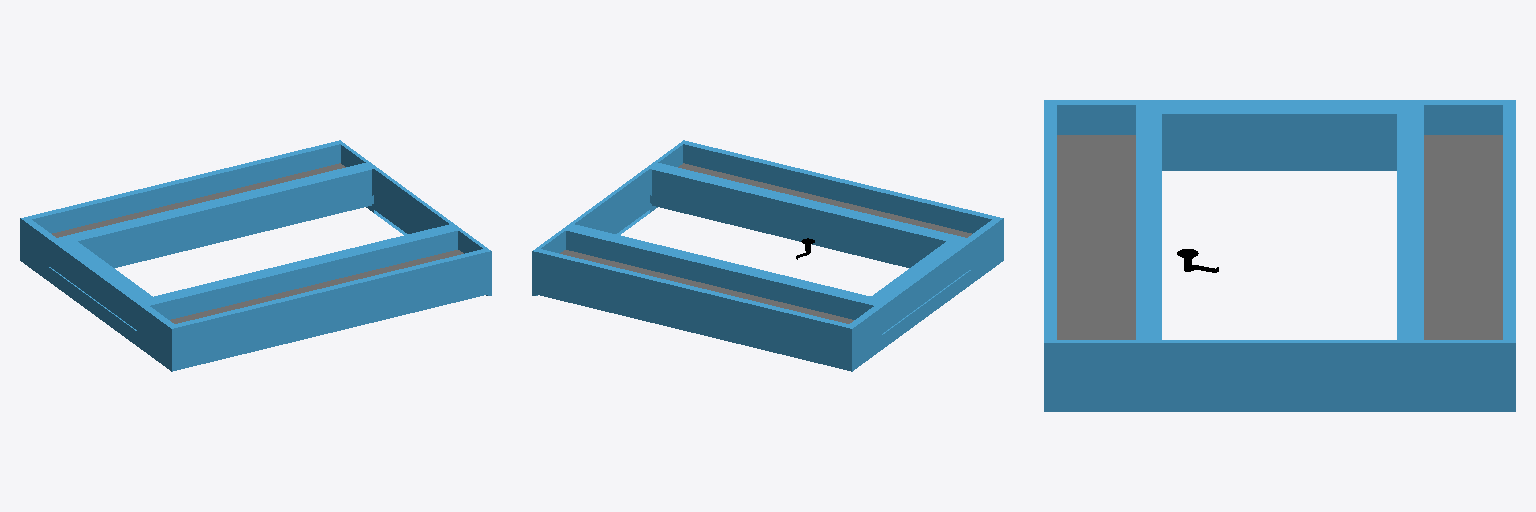
The robot description file, URDF, robot "right-pull-door":
<?xml version="1.0" ?>
<robot name="right-pull-door">
	<link name="base"/>
	<link name="link_0">
		<visual name="out-frame">
			<origin xyz="0 0 0"/>
			<geometry>
				<mesh filename="texture_dae/frame.dae" scale="0.78487892076762 0.78487892076762 0.78487892076762"/>
			</geometry>
		</visual>
		<collision>
			<origin xyz="0 0 0"/>
			<geometry>
				<mesh filename="texture_dae/frame.dae" scale="0.78487892076762 0.78487892076762 0.78487892076762"/>
			</geometry>
		</collision>
	</link>
	<joint name="joint_0" type="fixed">
		<origin rpy="1.570796326794897 0 -1.570796326794897" xyz="0 0 0"/>
		<child link="link_0"/>
		<parent link="base"/>
	</joint>
	<link name="link_1">
		<visual name="surf-board">
			<origin xyz="0.36413636870815214 -0.8003916253740894 0"/>
			<geometry>
				<mesh filename="texture_dae/board.dae" scale="0.78487892076762 0.78487892076762 0.78487892076762"/>
			</geometry>
		</visual>
		<collision>
			<origin xyz="0.36413636870815214 -0.8003916253740894 0"/>
			<geometry>
				<mesh filename="texture_dae/board.dae" scale="0.78487892076762 0.78487892076762 0.78487892076762"/>
			</geometry>
		</collision>
	</link>
	<joint name="joint_1" type="revolute">
		<origin xyz="-0.36413636870815214 0.8003916253740894 0"/>
		<axis xyz="0 -1 0"/>
		<child link="link_1"/>
		<parent link="link_0"/>
		<limit lower="0" upper="1.5079644737231006"/>
	</joint>
	<link name="link_2">
		<visual name="handle">
			<origin xyz="0 0 0"/>
			<geometry>
				<mesh filename="texture_dae/9960011.dae" scale="0.9595700037256313 0.9595700037256313 0.9595700037256313"/>
			</geometry>
		</visual>
		<collision>
			<origin xyz="0 0 0"/>
			<geometry>
				<mesh filename="texture_dae/9960011.dae" scale="0.9595700037256313 0.9595700037256313 0.9595700037256313"/>
			</geometry>
		</collision>
	</link>
	<joint name="joint_2" type="revolute">
		<origin xyz="0.6550969800856979 -0.8683876687534127 0.06941901749717554"/>
		<child link="link_2"/>
		<parent link="link_1"/>
		<axis xyz="0 0 1"/>
		<limit lower="0" upper="1.5079644737231006"/>
	</joint>
</robot>

--- What the picture shows (computed from the rendered views, not written in the file) ---
3 views of the same robot in one strip: view 1: azimuth 30°, elevation 25°; view 2: azimuth 150°, elevation 25°; view 3: azimuth 270°, elevation 25° (orthographic).
Robot: right-pull-door — 4 links, 3 joints (2 revolute, 1 fixed); root link base; default pose: all joints at 0.
Links seen in each view (by area): view 1: link_0; view 2: link_0; view 3: link_0.
Link boxes in pixels (x1,y1,x2,y2): link_0: (20, 140, 491, 371); link_0: (532, 140, 1003, 371); link_0: (1044, 100, 1515, 411).
Bounding box of the posed robot: 1.8 × 1.47 × 0.2392 m (x, y, z).
2 mesh visuals loaded from 3 distinct referenced files (2 Collada DAE); not drawn: 1 (reference not matched to a file when rendering).
